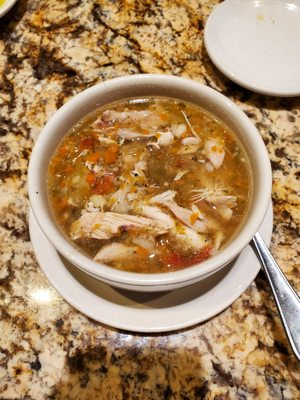sushi: (32, 79, 274, 294), (203, 0, 300, 97)
